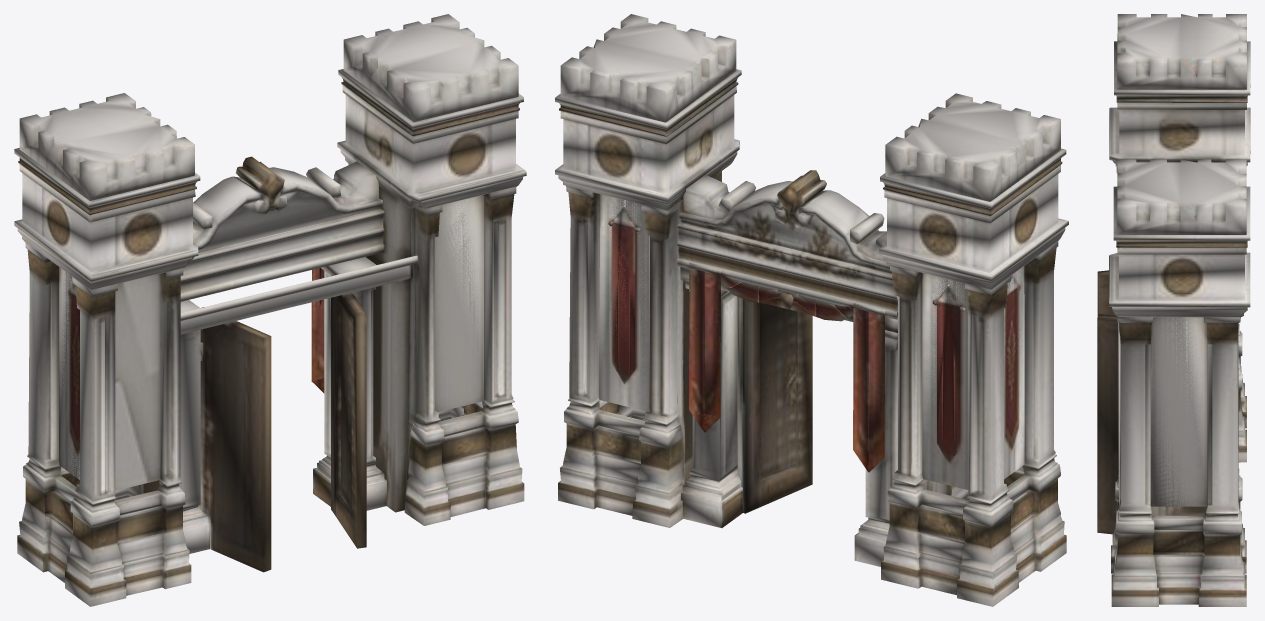
File: city_gate_arch.glb
3 renders of one model, left to right at view 1: azimuth 30°, elevation 25°; view 2: azimuth 150°, elevation 25°; view 3: azimuth 270°, elevation 25°, orthographic. The views are drawn at different scales.
Bounding box in the file's own units: 6.3 × 6 × 2.08.
Materials: 1 (1 with a texture image).
